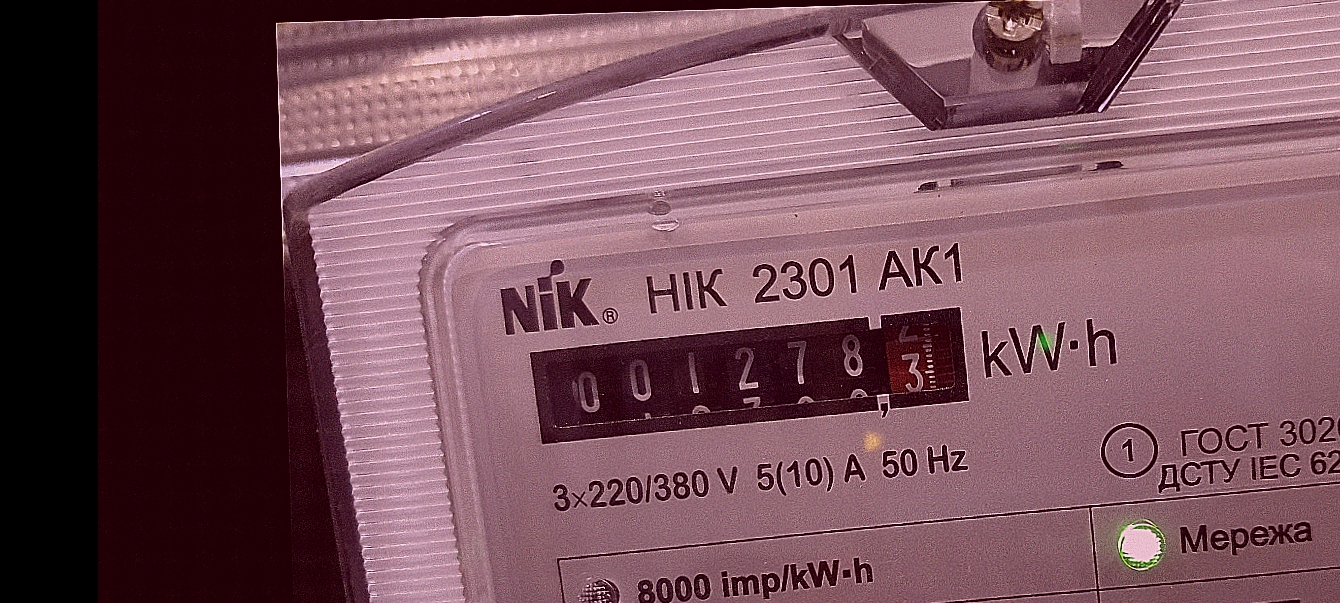0: (576, 366, 604, 415), (627, 356, 654, 403)
1: (684, 347, 704, 395)
2: (733, 344, 761, 392), (896, 323, 921, 343)
3: (899, 350, 927, 394)
7: (786, 338, 810, 385)
8: (841, 332, 866, 377)
screen: (515, 294, 988, 456)
